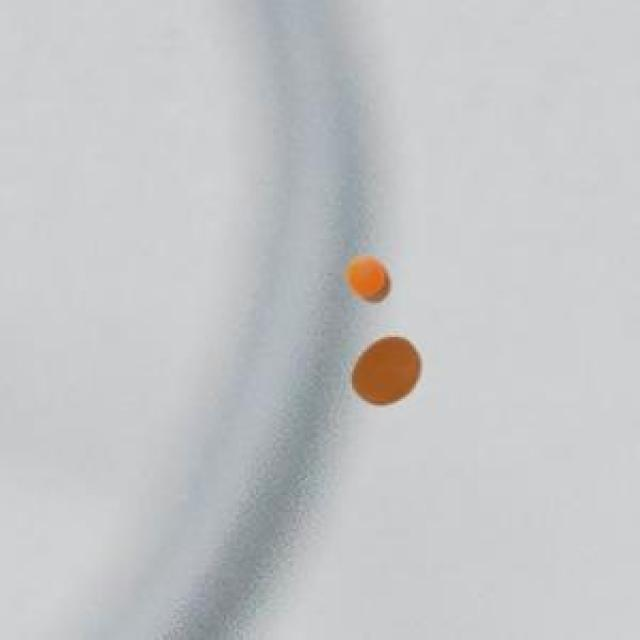Bactidol: (337, 330, 429, 418), (338, 245, 403, 314)
